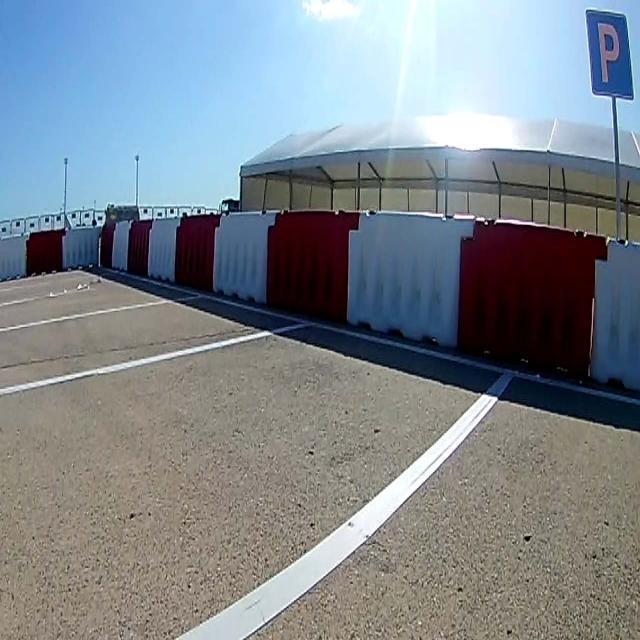park: (585, 10, 635, 101)
